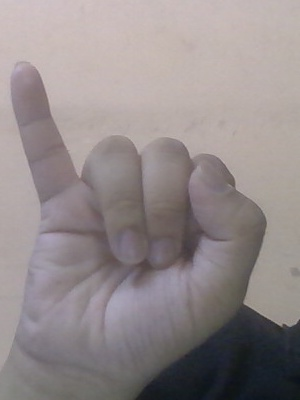I: (6, 59, 279, 332)
